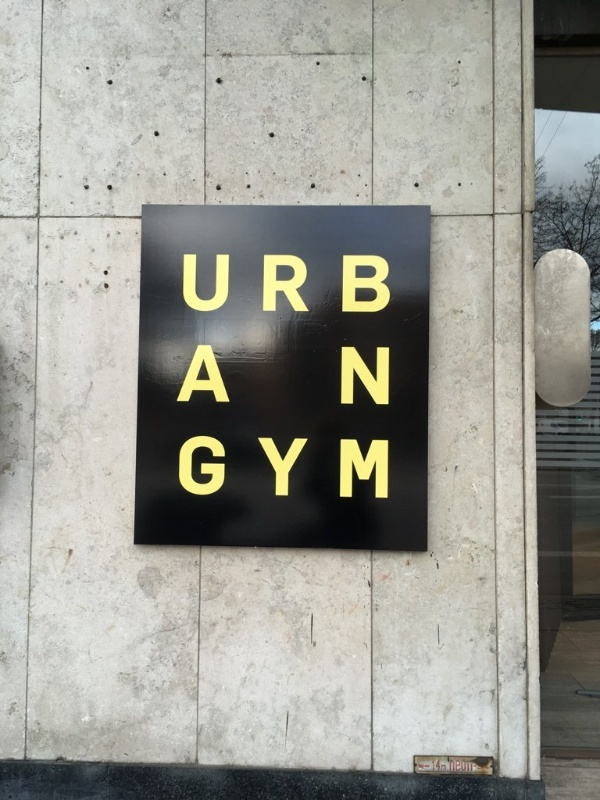text: (193, 435, 208, 499), (209, 435, 224, 499), (225, 435, 240, 499), (241, 435, 256, 499), (257, 435, 272, 499), (273, 435, 288, 499), (289, 435, 304, 499), (305, 435, 320, 499), (321, 435, 336, 499), (337, 435, 352, 499), (353, 435, 368, 499), (369, 435, 384, 499), (193, 253, 208, 314), (209, 253, 224, 314), (225, 253, 240, 314), (241, 253, 256, 314), (257, 253, 272, 314), (273, 253, 288, 314), (289, 253, 304, 314), (305, 253, 320, 314), (321, 253, 336, 314), (337, 253, 352, 314), (353, 253, 368, 314), (369, 253, 384, 314), (193, 345, 208, 403), (209, 345, 224, 403), (353, 347, 368, 405), (369, 347, 384, 405), (180, 435, 192, 499), (341, 347, 352, 405), (183, 253, 192, 314), (385, 253, 393, 314), (385, 347, 391, 405), (385, 435, 390, 499), (225, 345, 230, 403), (188, 345, 192, 403), (449, 758, 464, 773), (433, 760, 448, 773), (465, 758, 475, 773), (447, 758, 448, 773), (431, 760, 432, 773)
